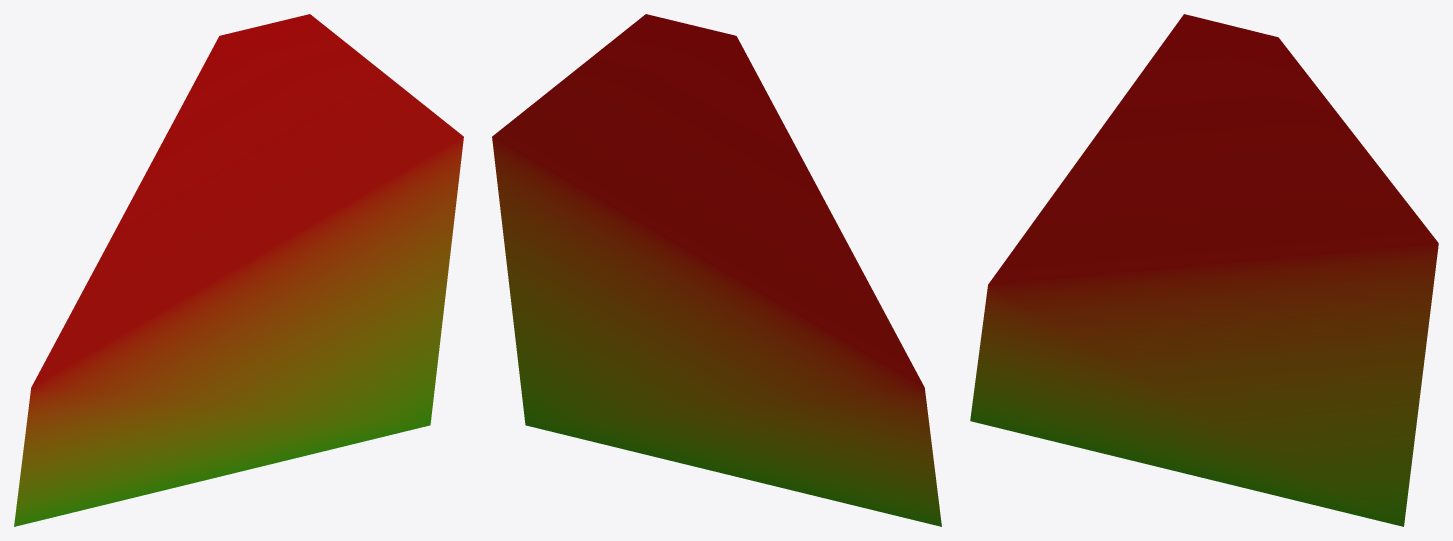
File: Var1_LOD3.fbx
3 renders of one model, left to right at view 1: azimuth 30°, elevation 25°; view 2: azimuth 150°, elevation 25°; view 3: azimuth 330°, elevation 25°, orthographic. The views are drawn at different scales.
Parts seen in each view (by area): view 1: _f08b_Var1_LOD3; view 2: _f08b_Var1_LOD3; view 3: _f08b_Var1_LOD3.
Part boxes in pixels (box(x1,y1,x2,y2)): _f08b_Var1_LOD3: box(14, 14, 463, 526); _f08b_Var1_LOD3: box(492, 14, 941, 526); _f08b_Var1_LOD3: box(970, 14, 1438, 526).
Bounding box in the file's own units: 246 × 231 × 4.63e-05.
